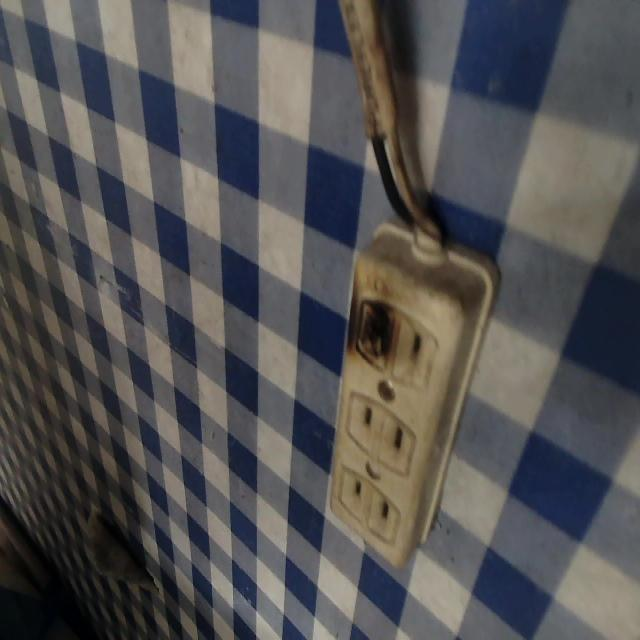-: (342, 268, 407, 377)
